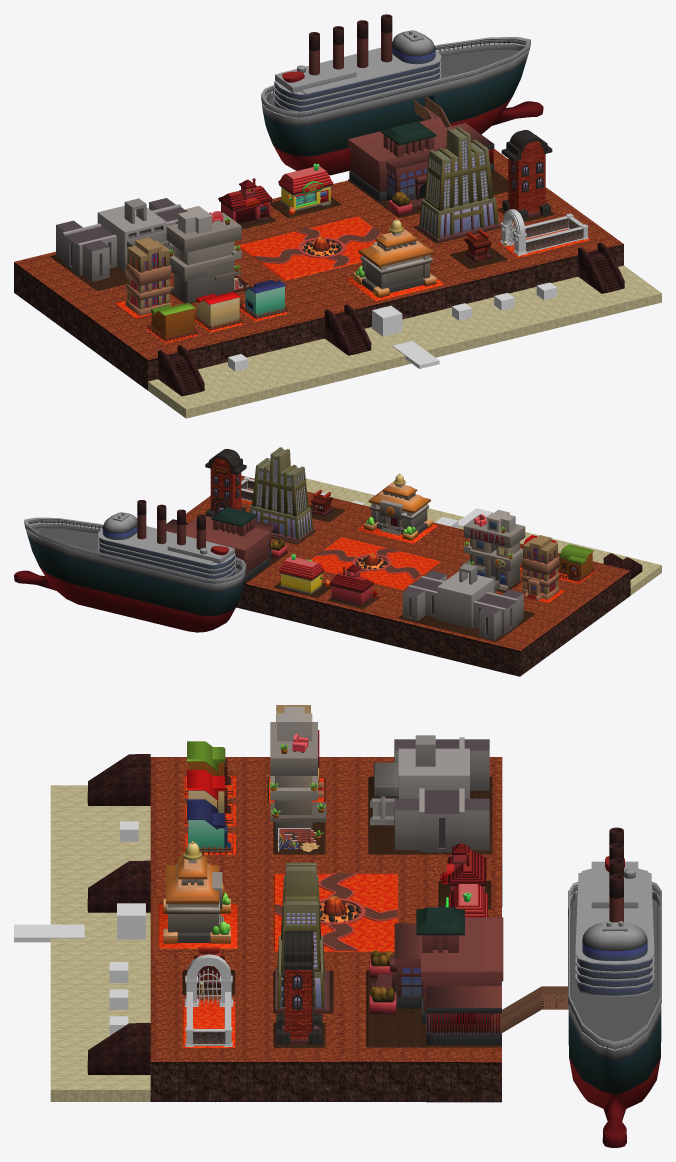
File: mapv3.FBX
3 views of the same model, one above another, from view 1: azimuth 30°, elevation 25°; view 2: azimuth 150°, elevation 25°; view 3: azimuth 270°, elevation 25° (orthographic). The views are drawn at different scales.
Parts seen in each view (by area): view 1: land, ship, Customs, archives, courthouse, shops_lp, park, temple001, office, library, cemetary, dragonstore (+11 smaller); view 2: land, ship, courthouse, archives, shops_lp, park, Customs, temple001, library, office, dragonstore, firedept001 (+3 smaller); view 3: land, ship, Customs, courthouse, park, shops_lp, temple001, archives, office, Object002, stairs test, stairs test002 (+11 smaller).
Boxes of the visible parts, box(x1,y1,x2,y2) form: land: box(14, 148, 661, 418); ship: box(261, 14, 543, 175); Customs: box(348, 118, 494, 216); archives: box(416, 126, 500, 241); courthouse: box(56, 198, 185, 281); shops_lp: box(166, 206, 241, 302); park: box(239, 216, 382, 280); temple001: box(353, 219, 436, 297); office: box(501, 130, 552, 220); library: box(125, 237, 171, 315); cemetary: box(500, 209, 588, 255); dragonstore: box(278, 163, 333, 215); land: box(186, 475, 661, 676); ship: box(14, 500, 246, 632); courthouse: box(402, 563, 523, 639); archives: box(249, 447, 314, 542); shops_lp: box(461, 509, 525, 590); park: box(311, 537, 440, 589); Customs: box(166, 507, 287, 582); temple001: box(364, 473, 432, 540); library: box(521, 535, 559, 600); office: box(205, 449, 246, 517); dragonstore: box(279, 554, 329, 594); firedept001: box(329, 564, 377, 606); land: box(50, 757, 502, 1102); ship: box(568, 827, 661, 1147); Customs: box(369, 907, 503, 1044); courthouse: box(370, 735, 489, 852); park: box(273, 873, 397, 951); shops_lp: box(268, 706, 326, 841); temple001: box(163, 841, 230, 943); archives: box(275, 862, 329, 1011); office: box(276, 931, 322, 1044); Object002: box(366, 969, 501, 1047); stairs test: box(87, 754, 150, 805); stairs test002: box(87, 1023, 150, 1074).
Size of the model in its own units: 3898 by 933 by 2918.
